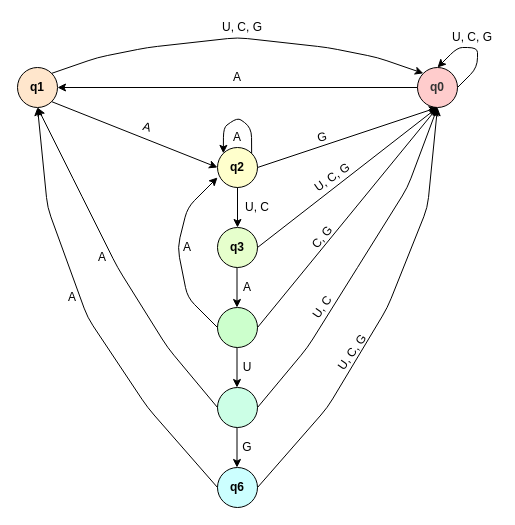
The diagram is 515 pixels wide and 525 high, and some of its shapes have lost their labels. The centre of each missing label's shape, as x and y in pixels:
q4: pixel 237 327
q5: pixel 237 407
